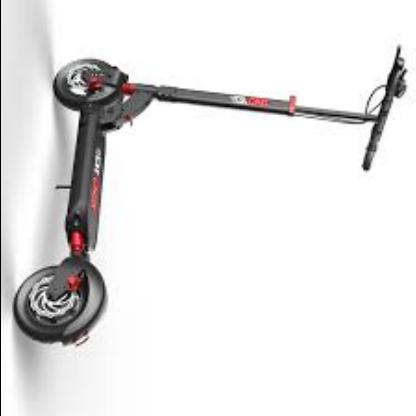bike: (12, 56, 413, 348)
